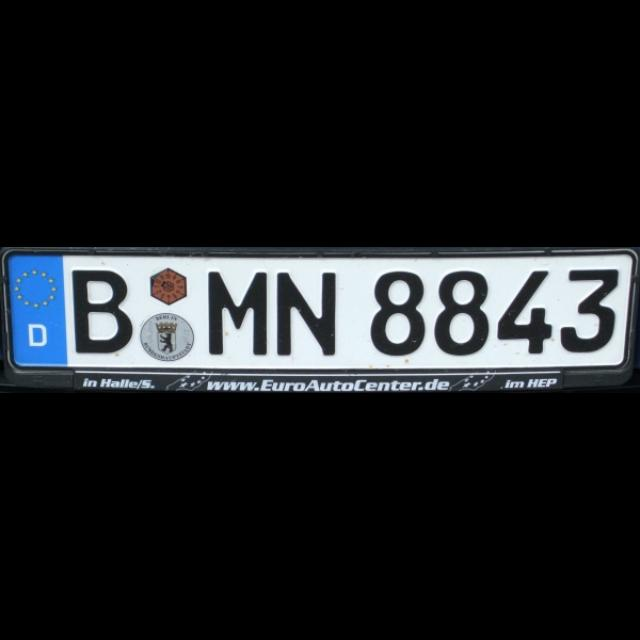d_license_plate: (7, 252, 627, 368)
